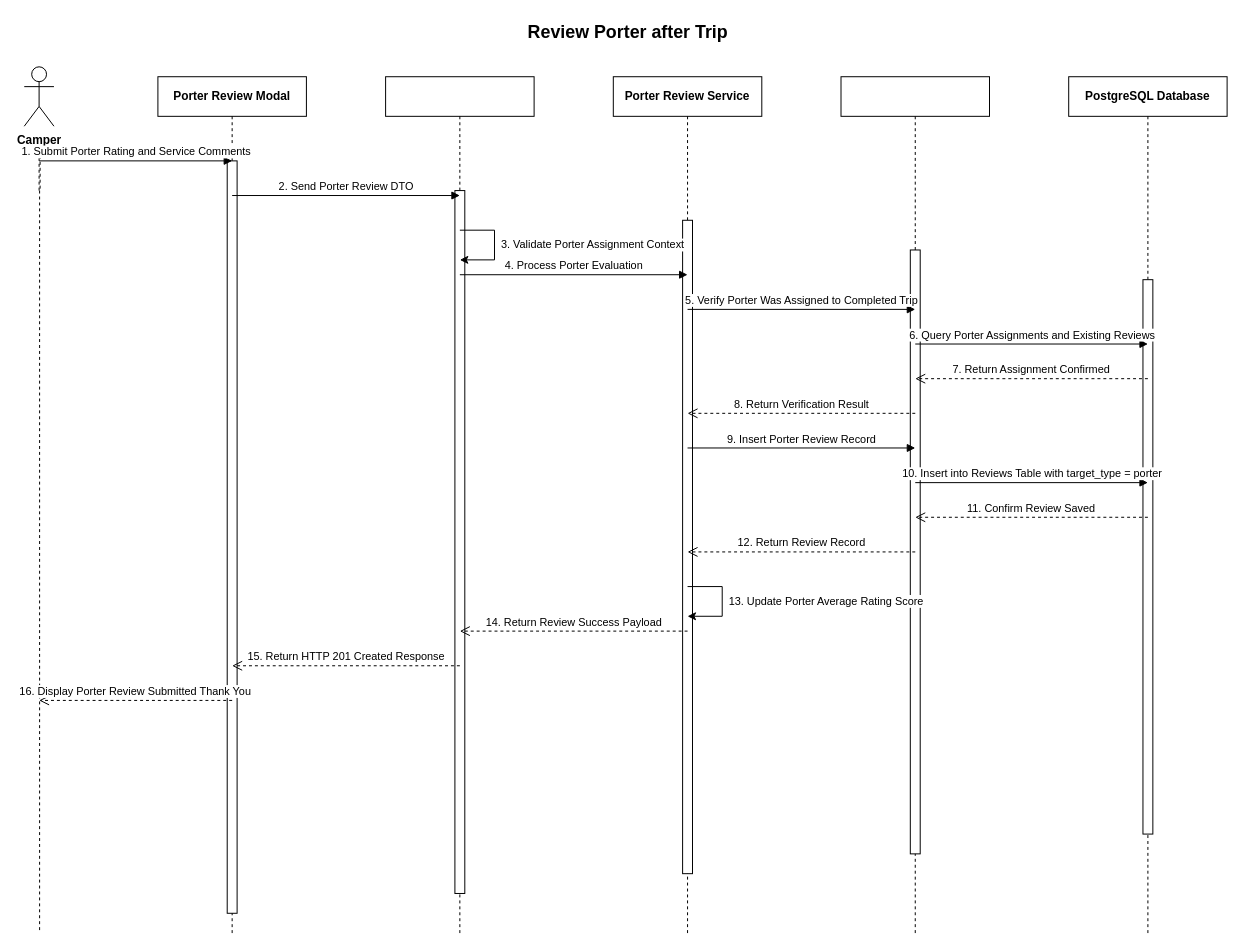
Image size: 1244x950. Some labels were removed from this diagram. The box of each missing label's shape, as (x1, y1, x2, y2) in pixels:
Porter Rating Model: (840, 76, 990, 933)
Porter Review Controller: (385, 76, 534, 933)
